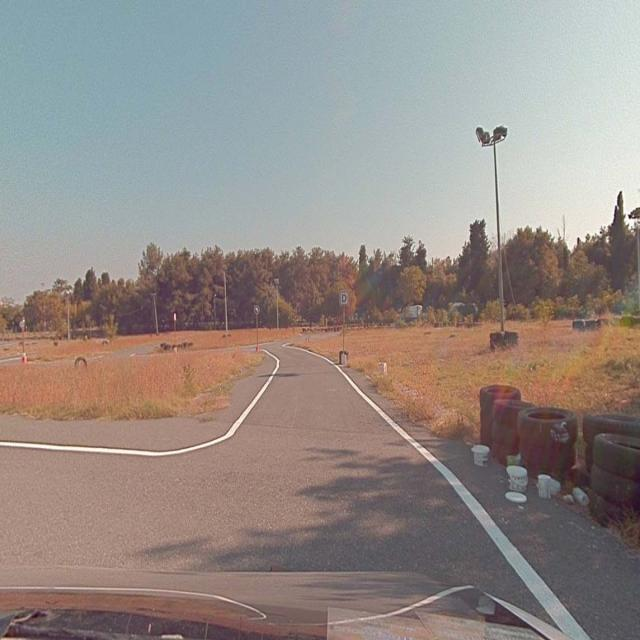durak: (340, 292, 349, 305)
